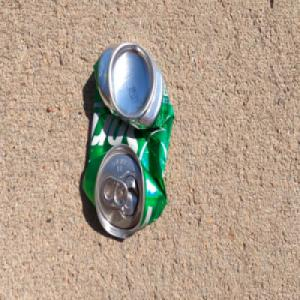SodaCan: (81, 38, 175, 240)
